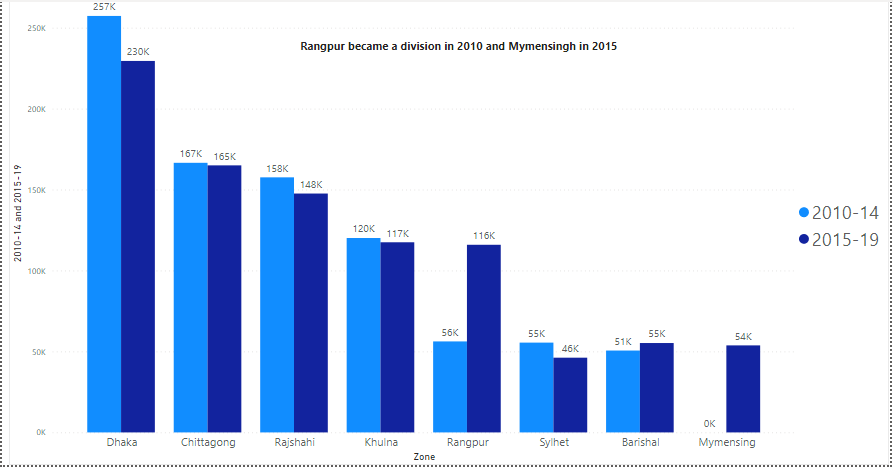

The page's visual inventory and layout, read from the dashboard file:
{"tool":"powerbi","page":{"name":"Page 3","canvas":[1280,720],"ordinal":2},"visuals":[{"type":"clusteredColumnChart","title":"Zone wise Cases Record","fields":{"Category":["Sheet3.Zone"],"Y":["Sum(Sheet3.2010-14)","Sum(Sheet3.2015-19)"]},"box":[10.1,0,1269.9,720.6],"z":0},{"type":"textbox","box":[378.3,99.3,562.3,73],"z":1}]}

Visuals, with their boxes on the page's 1280x720 design canvas (x1, y1, x2, y2). These are canvas units, not pixel positions in the 893x468 screenshot, which may show the page scaled, cropped or inside an application window:
"Zone wise Cases Record" clusteredColumnChart: Rect(10, 0, 1280, 721)
textbox: Rect(378, 99, 941, 172)
